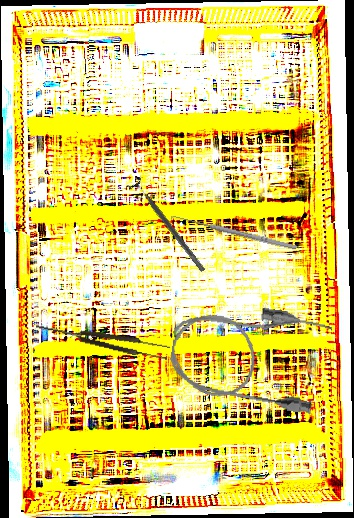Cannula: (165, 294, 334, 416)
Fixation Ring: (125, 175, 211, 277)
Hook Surgical: (169, 212, 298, 256)
Tissue Forceps: (34, 317, 171, 362)
